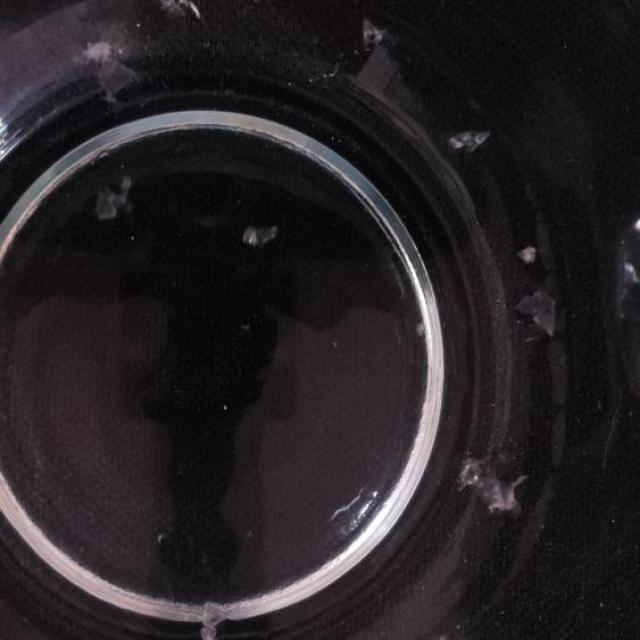fiber: (451, 453, 539, 514), (81, 48, 146, 109), (621, 216, 640, 409), (90, 166, 143, 226), (513, 289, 566, 339), (242, 213, 283, 253), (450, 126, 497, 156), (359, 12, 391, 56), (158, 0, 210, 24), (200, 604, 229, 639), (520, 244, 538, 264)
